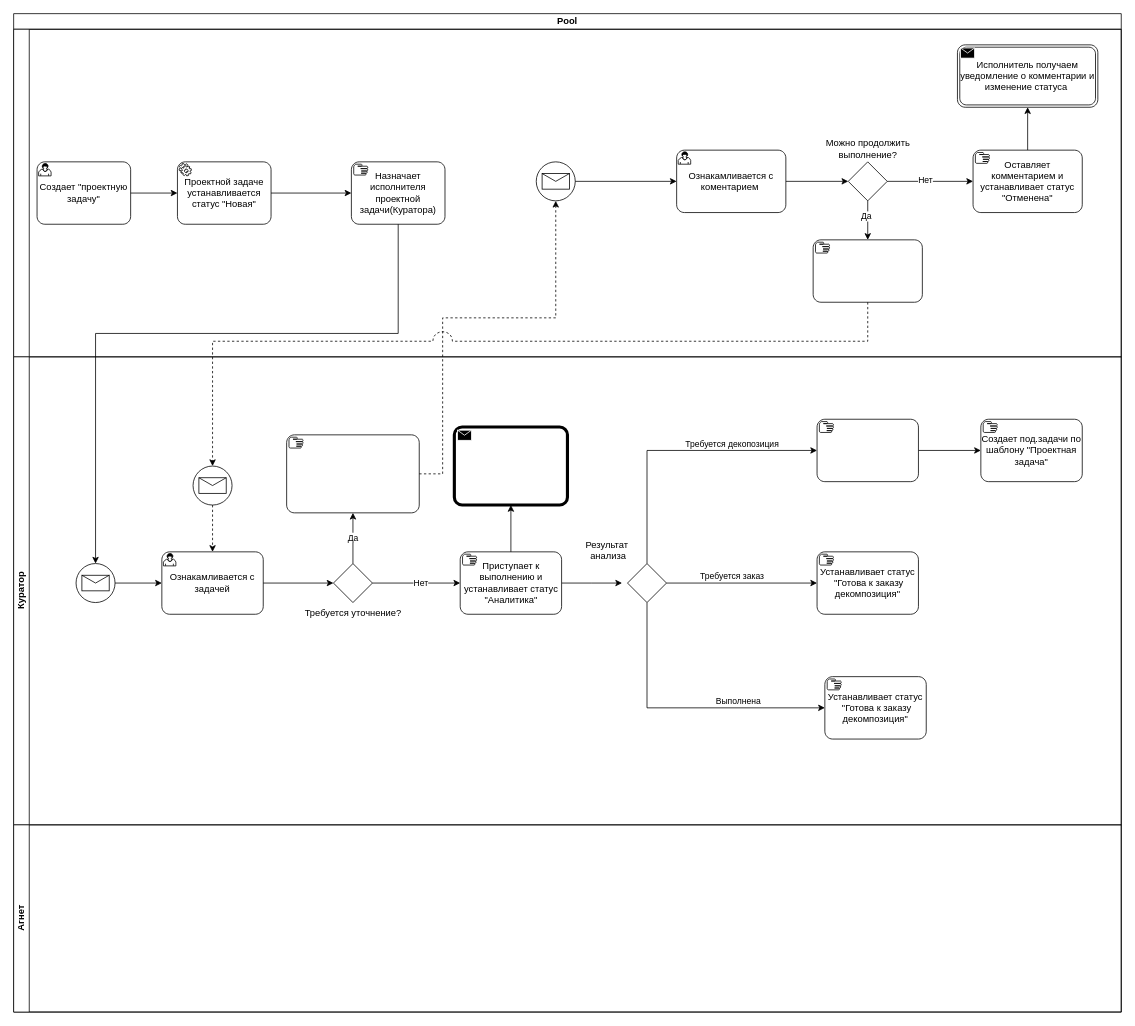
Image size: 1135x1026. Some labels were removed from this diagram. Each missing label, with the box of its shape:
Оставляет комментарием в задаче: (812, 239, 922, 302)
пишет свой вопрос в комментарии и устанавливает статус "Запрос информации": (286, 434, 419, 513)
Получает уведомление, о комментарии: (192, 465, 232, 505)
Получает уведомление, что ему назначена задача: (75, 563, 115, 603)
Получает уведомление, что задача передена в статус "Запрос информации": (535, 161, 575, 201)
Постановщик получает уведомление о изменение статуса задачи.: (454, 426, 567, 505)
Руководитель проектов: (13, 28, 1121, 357)
Устанавливает статус "требуется декомпозиция": (816, 418, 918, 482)
